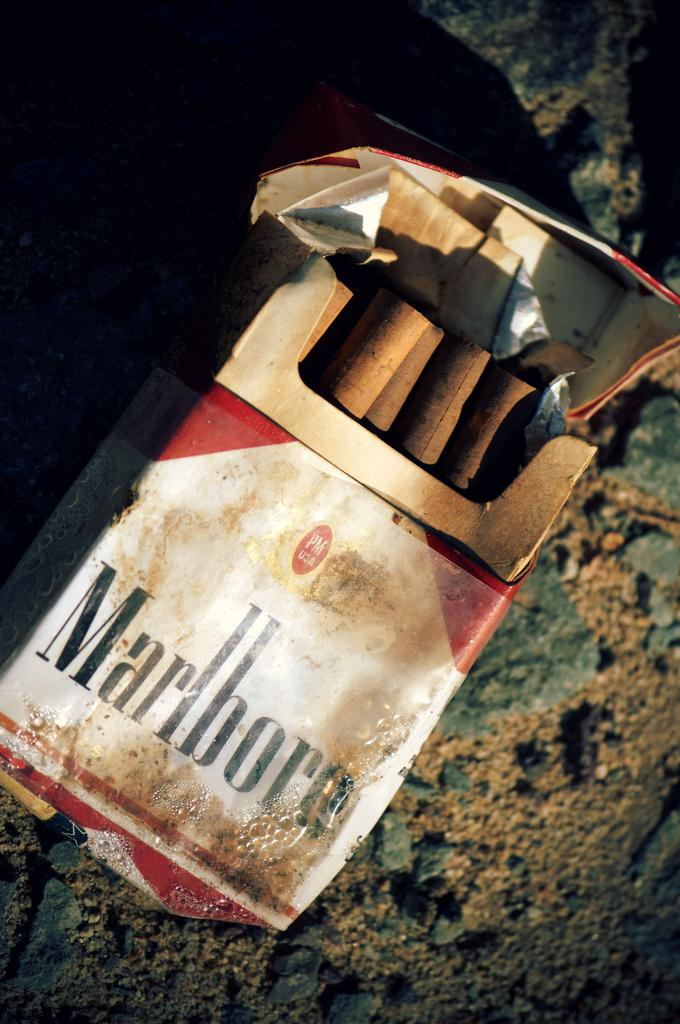marlboro_red: (66, 385, 441, 896)
